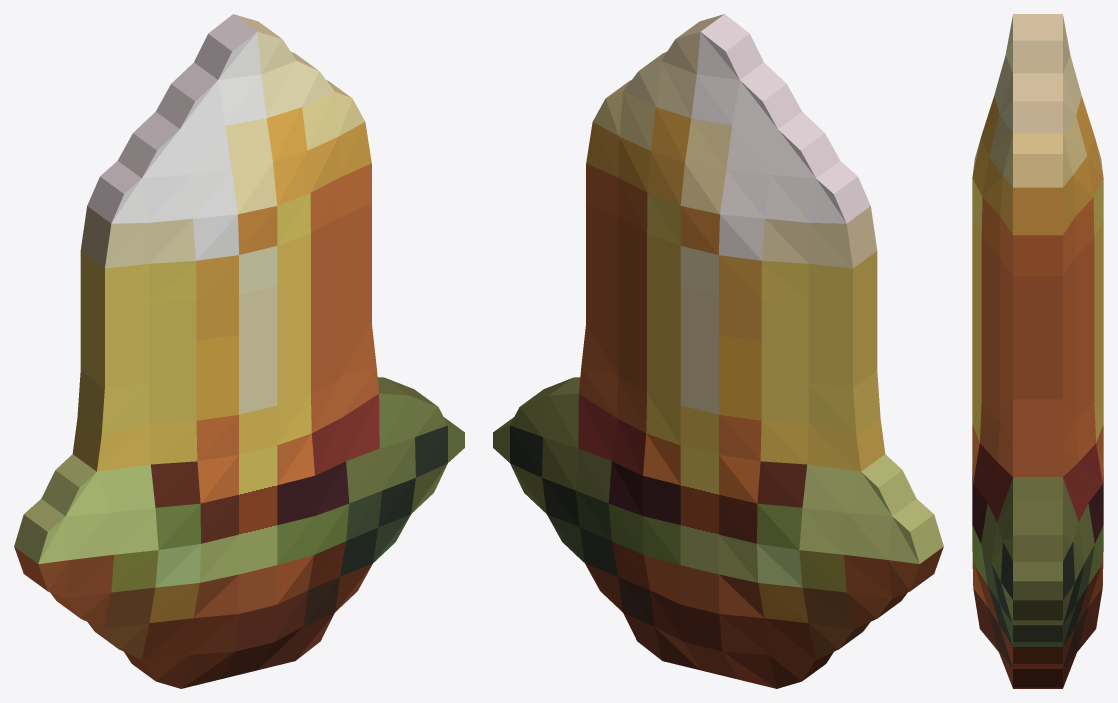
Rendered from crystal_spike.glb.
3 renders of one model, left to right at view 1: azimuth 30°, elevation 25°; view 2: azimuth 150°, elevation 25°; view 3: azimuth 270°, elevation 25°, orthographic. The views are drawn at different scales.
Visible parts, largest first — view 1: crystal_spike; view 2: crystal_spike; view 3: crystal_spike.
Part boxes in pixels (left/top/right/bottom): crystal_spike: left=14, top=14, right=464, bottom=688; crystal_spike: left=493, top=14, right=943, bottom=688; crystal_spike: left=972, top=14, right=1103, bottom=688.
Bounding box in the file's own units: 0.6991 × 1 × 0.1813.
1 material, 1 textured.
